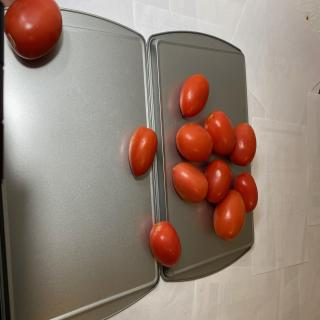Chilli: (172, 73, 258, 242)
Tomato: (4, 0, 63, 60), (213, 190, 246, 241), (128, 126, 158, 177), (172, 162, 208, 203), (150, 221, 182, 267), (176, 124, 213, 162), (204, 110, 235, 155), (180, 74, 210, 117), (229, 122, 257, 167), (204, 159, 232, 203), (233, 172, 258, 213)
